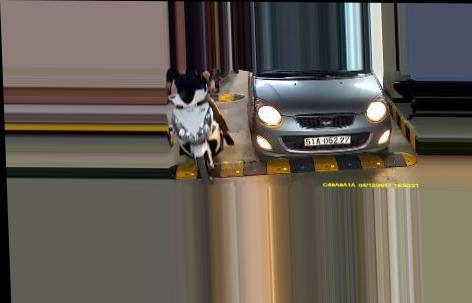License_Plate: (305, 135, 350, 147)
